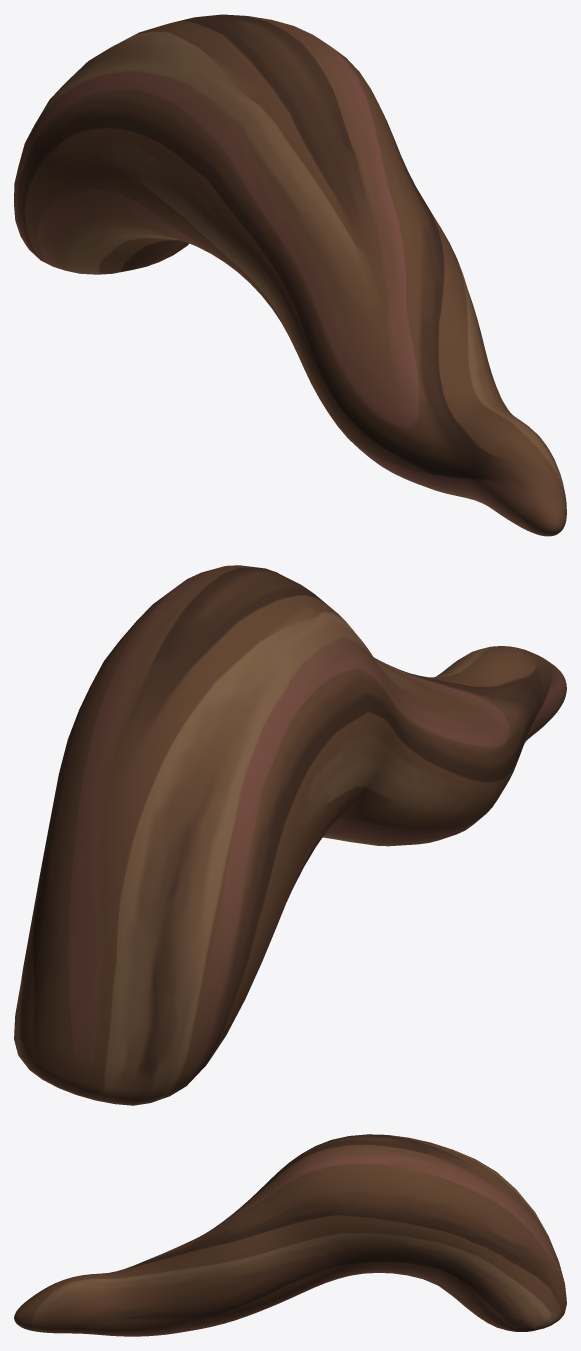
The model's file is AngelRoot1.fbx.
3 renders of one model, top to bottom at view 1: azimuth 30°, elevation 25°; view 2: azimuth 150°, elevation 25°; view 3: azimuth 270°, elevation 25°, orthographic. The views are drawn at different scales.
Visible parts, largest first — view 1: AngelRoot1; view 2: AngelRoot1; view 3: AngelRoot1.
Part boxes in pixels (x1,y1,x2,y2): AngelRoot1: (14,14,566,536); AngelRoot1: (14,565,566,1105); AngelRoot1: (14,1134,566,1336).
Bounding box in the file's own units: 90.31 × 128 × 327.
Materials: 1 (1 with a texture image).
